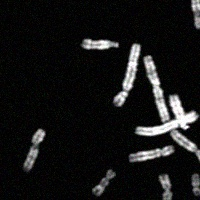chromosome: (113, 42, 141, 105), (144, 55, 169, 121), (135, 109, 198, 135), (171, 129, 200, 162), (23, 129, 45, 170), (129, 146, 174, 162), (171, 94, 189, 130), (92, 169, 115, 194), (82, 38, 120, 49), (158, 173, 171, 200), (191, 0, 200, 29), (191, 174, 200, 196)
